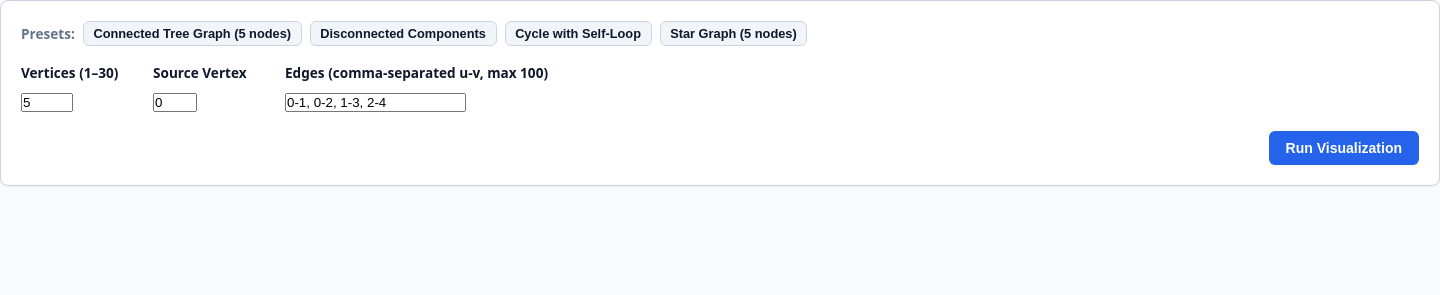
Test: GraphVisualizer Component Tests › Graph Input Form Interactions › validates edge format in edge list textarea
The width and height of the screenshot is (1440, 295).
Replace the text in the field named "Graph Edges" with "invalid-edge": [376, 103] box [285,93,466,112]
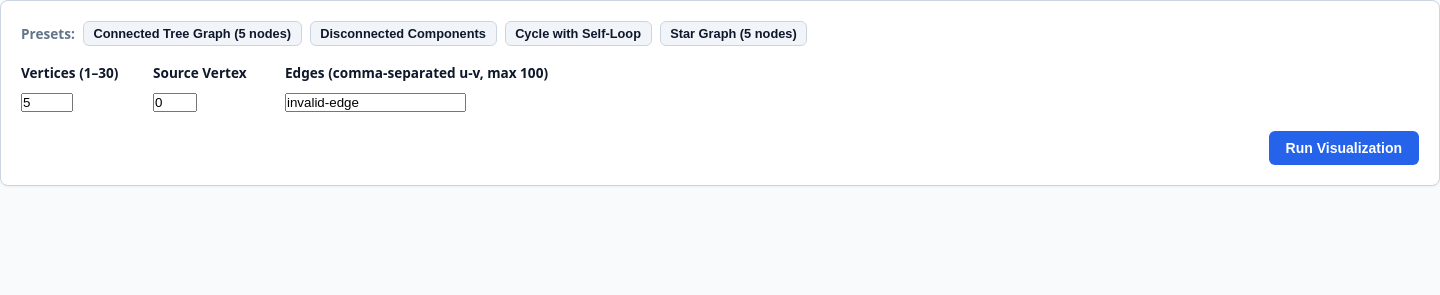
Click the button "Run Visualization": [1344, 148] box [1269,131,1419,165]
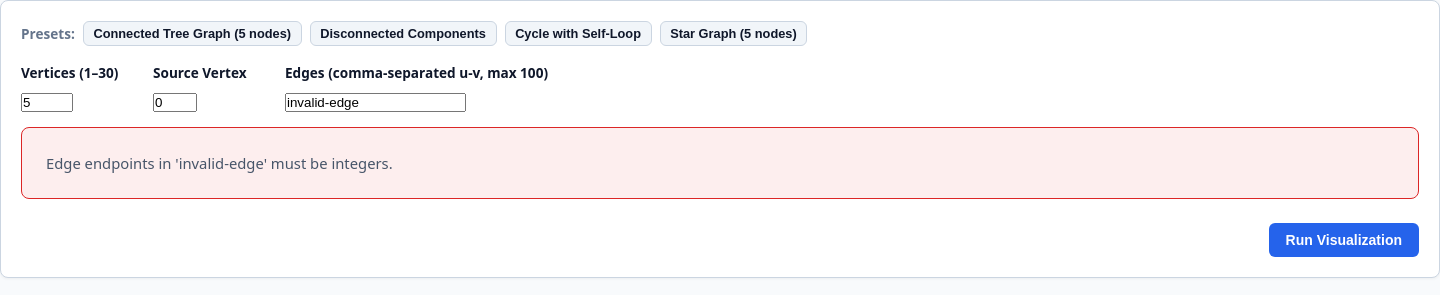
Expected: the message shows "Edge endpoints in 'invalid-edge' must be integers", [46,153,393,173]
